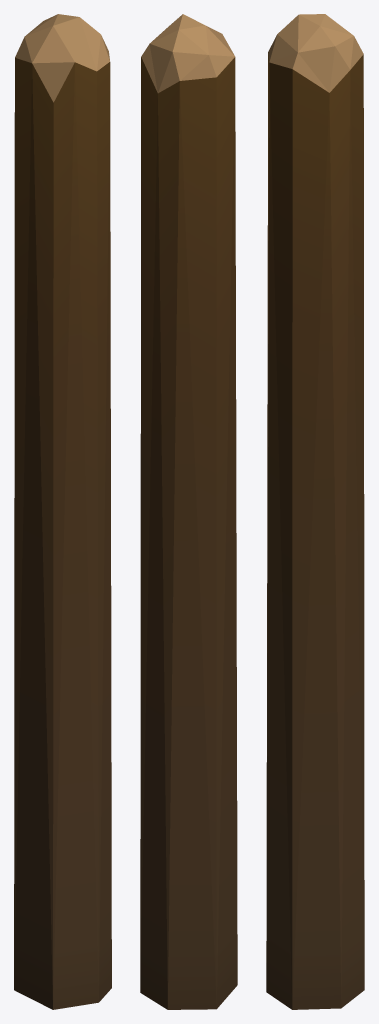
File: FenceBig_03.fbx
3 renders of one model, left to right at view 1: azimuth 90°, elevation 25°; view 2: azimuth 210°, elevation 25°; view 3: azimuth 270°, elevation 25°, orthographic.
Parts seen in each view (by area): view 1: FenceBig_03; view 2: FenceBig_03; view 3: FenceBig_03.
Boxes of the visible parts, x1,y1,x2,y2 form: FenceBig_03: (14,14,111,1009); FenceBig_03: (140,14,237,1009); FenceBig_03: (266,14,364,1009).
Bounding box in the file's own units: 0.3002 × 3.41 × 0.3108.
